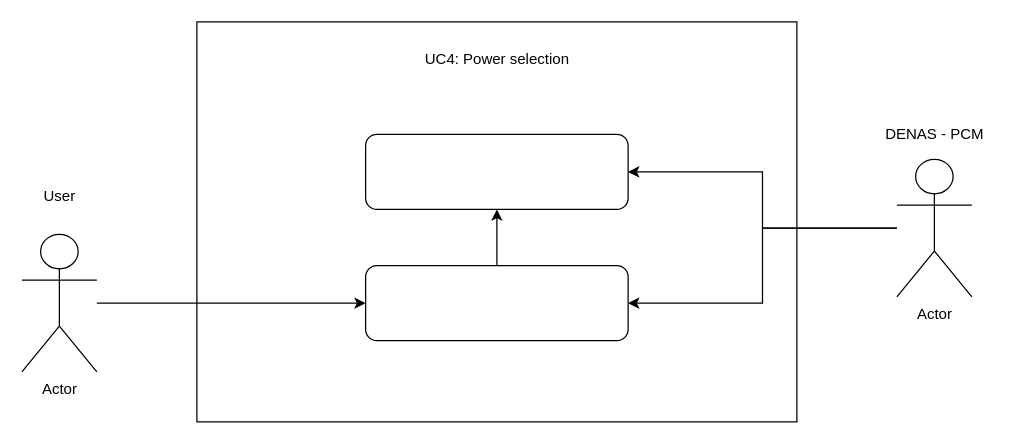
This 1013x444 diagram has some shape labels left out. Here are the shapes that lost their labels. From the top down, the box of each, then its label:
(364, 133, 628, 209): Updates the power level into the back end
(364, 264, 628, 341): Select Power level
